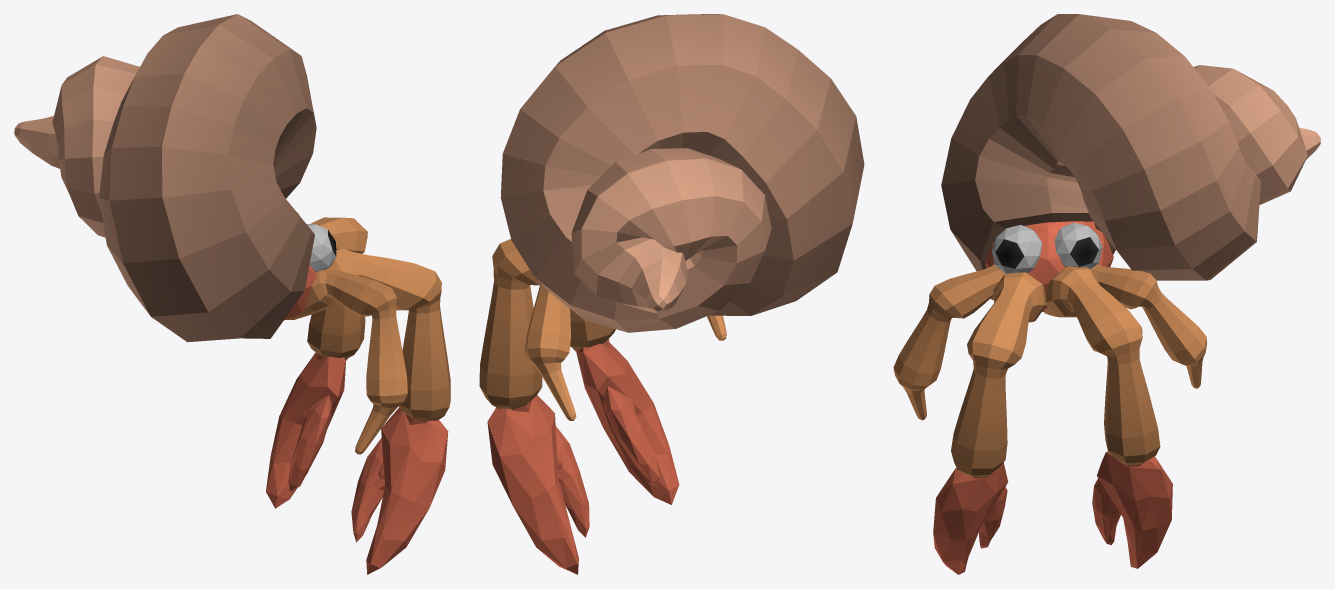
Rendered from hermit_crab.glb.
3 views of the same model, side by side, from view 1: azimuth 30°, elevation 25°; view 2: azimuth 150°, elevation 25°; view 3: azimuth 270°, elevation 25° (orthographic). The views are drawn at different scales.
Visible parts, largest first — view 1: hermit_crab_merged; view 2: hermit_crab_merged; view 3: hermit_crab_merged.
Part boxes in pixels (<box>): hermit_crab_merged: <box>14,14,450,574</box>; hermit_crab_merged: <box>479,14,864,574</box>; hermit_crab_merged: <box>893,14,1320,574</box>.
Size of the model in its own units: 1.89 by 3.1 by 2.36.
1 material, 1 textured.
